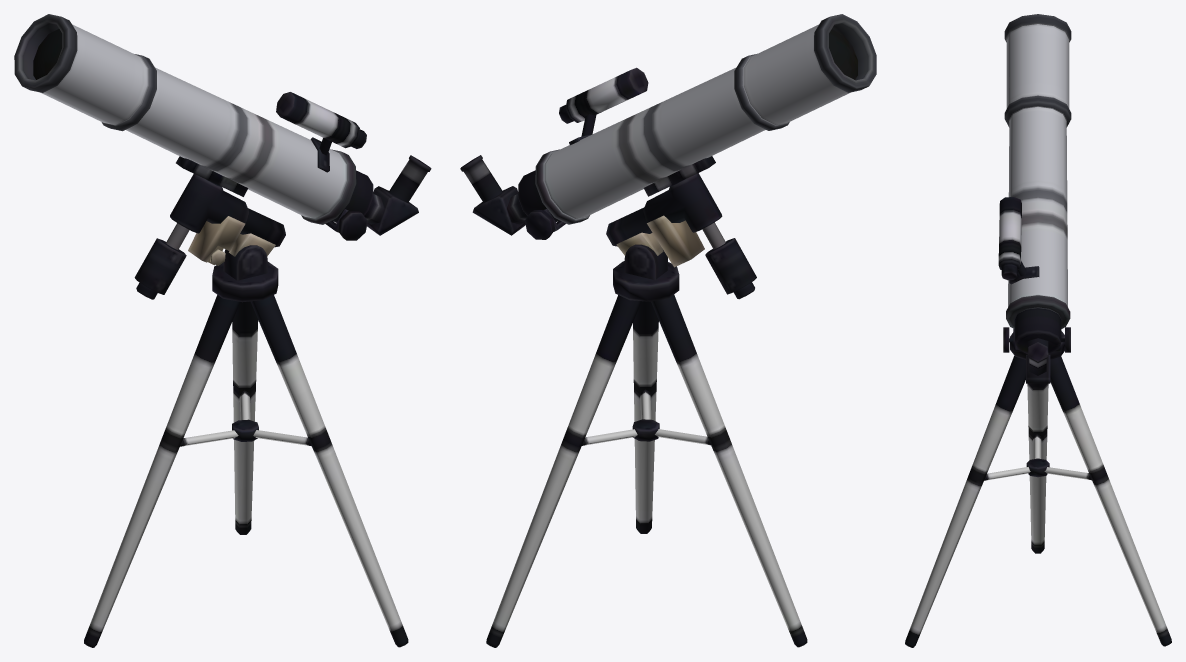
3 renders of one model, left to right at view 1: azimuth 30°, elevation 25°; view 2: azimuth 150°, elevation 25°; view 3: azimuth 270°, elevation 25°, orthographic. The views are drawn at different scales.
Size of the model in its own units: 9.41 by 14.04 by 6.44.
1 material, 1 textured.
